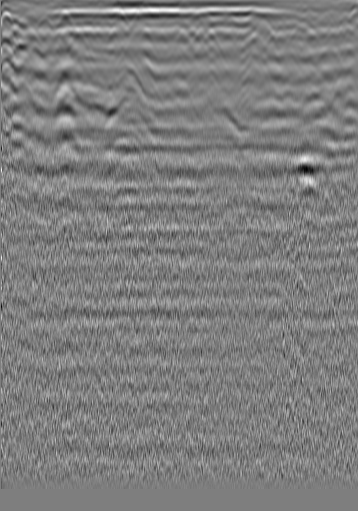가스: (96, 129, 147, 161)
상수: (28, 24, 48, 44)
오수: (298, 34, 318, 54)
우수: (171, 22, 191, 42)
